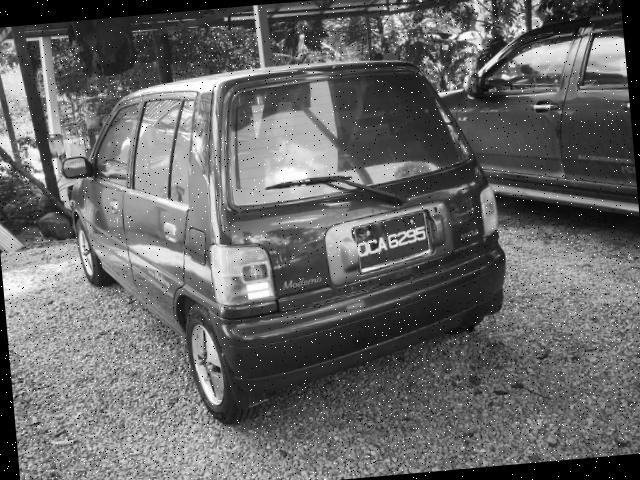License_Plate: (352, 211, 435, 276)
car: (54, 41, 529, 439)
